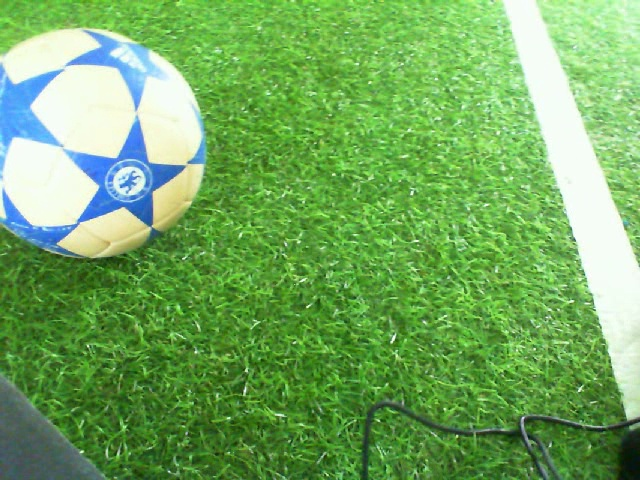ball: (1, 26, 207, 261)
